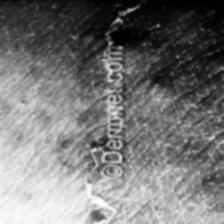Toxin: (130, 38, 224, 190)
